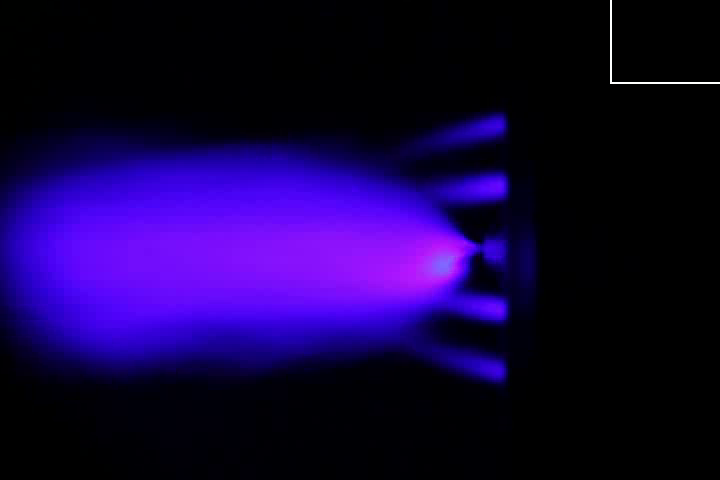burner cap: (478, 234, 509, 269)
pilot flame: (401, 339, 505, 381), (390, 115, 508, 152), (421, 174, 509, 198), (447, 294, 512, 324)
stable: (83, 218, 476, 295)
